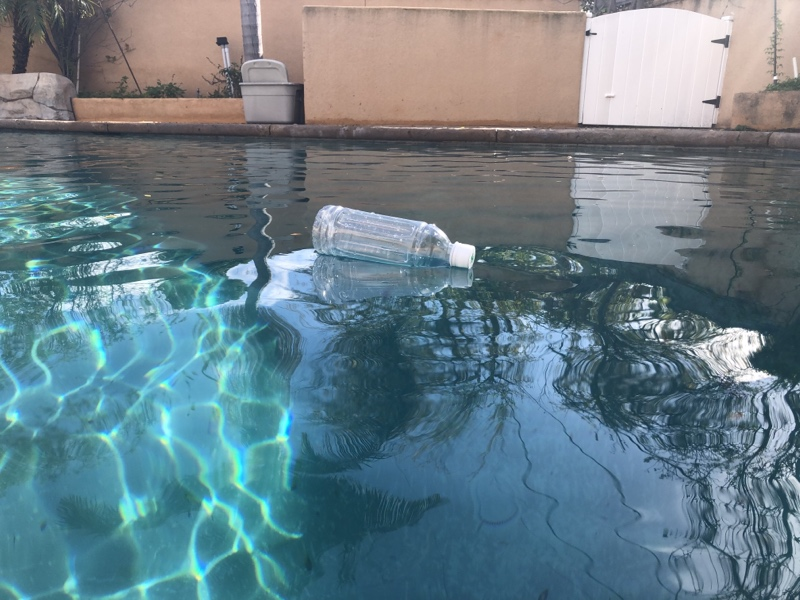Plastic Bottle: (308, 198, 478, 275)
